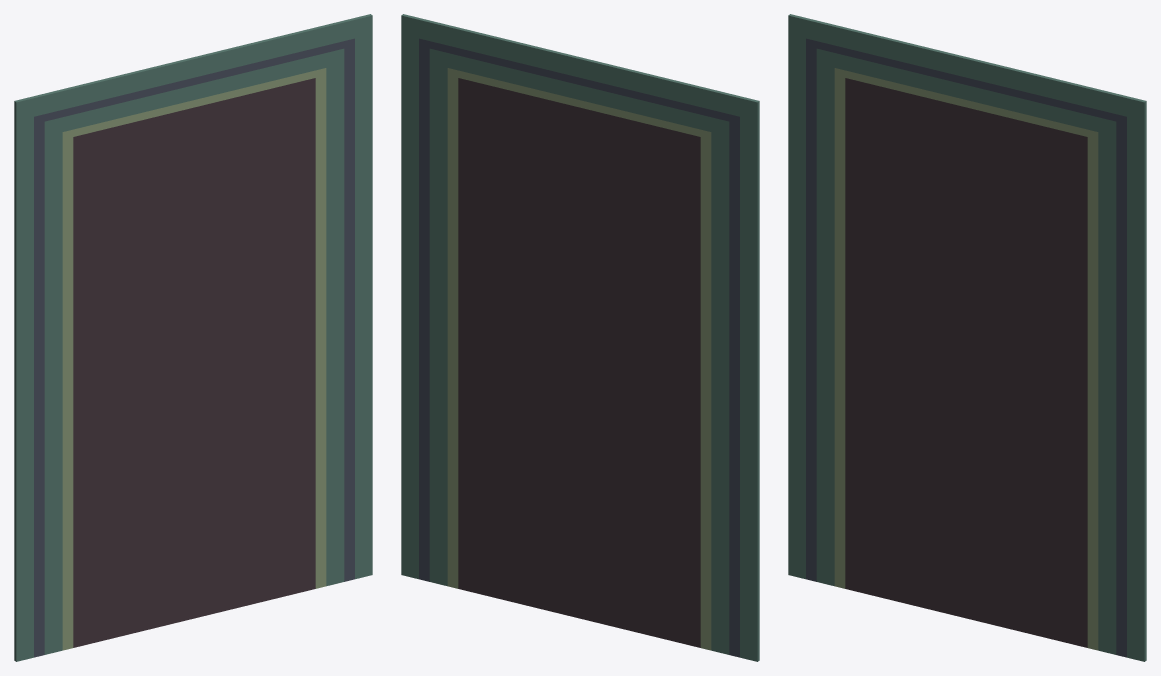
File: AlfombraV.obj
3 views of the same model, side by side, from view 1: azimuth 30°, elevation 25°; view 2: azimuth 150°, elevation 25°; view 3: azimuth 330°, elevation 25° (orthographic).
Size of the model in its own units: 10 by 15 by 0.1.
Materials: 1 (1 with a texture image).
